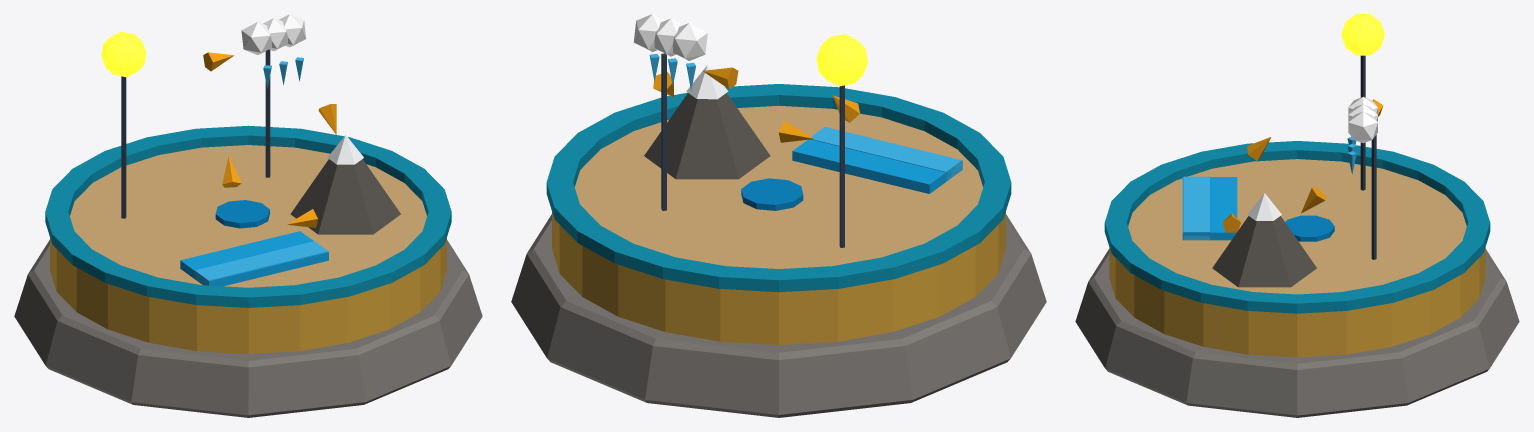
File: stasiun_siklus_air_v001.glb
3 renders of one model, left to right at view 1: azimuth 30°, elevation 25°; view 2: azimuth 150°, elevation 25°; view 3: azimuth 270°, elevation 25°, orthographic. The views are drawn at different scales.
Parts seen in each view (by area): view 1: Stasiun_Siklus_Air; view 2: Stasiun_Siklus_Air; view 3: Stasiun_Siklus_Air.
Boxes of the visible parts, bbox=[...] form: Stasiun_Siklus_Air: bbox=[14, 14, 482, 417]; Stasiun_Siklus_Air: bbox=[511, 14, 1046, 417]; Stasiun_Siklus_Air: bbox=[1075, 14, 1519, 417].
Size of the model in its own units: 2.03 by 1.36 by 2.03.
